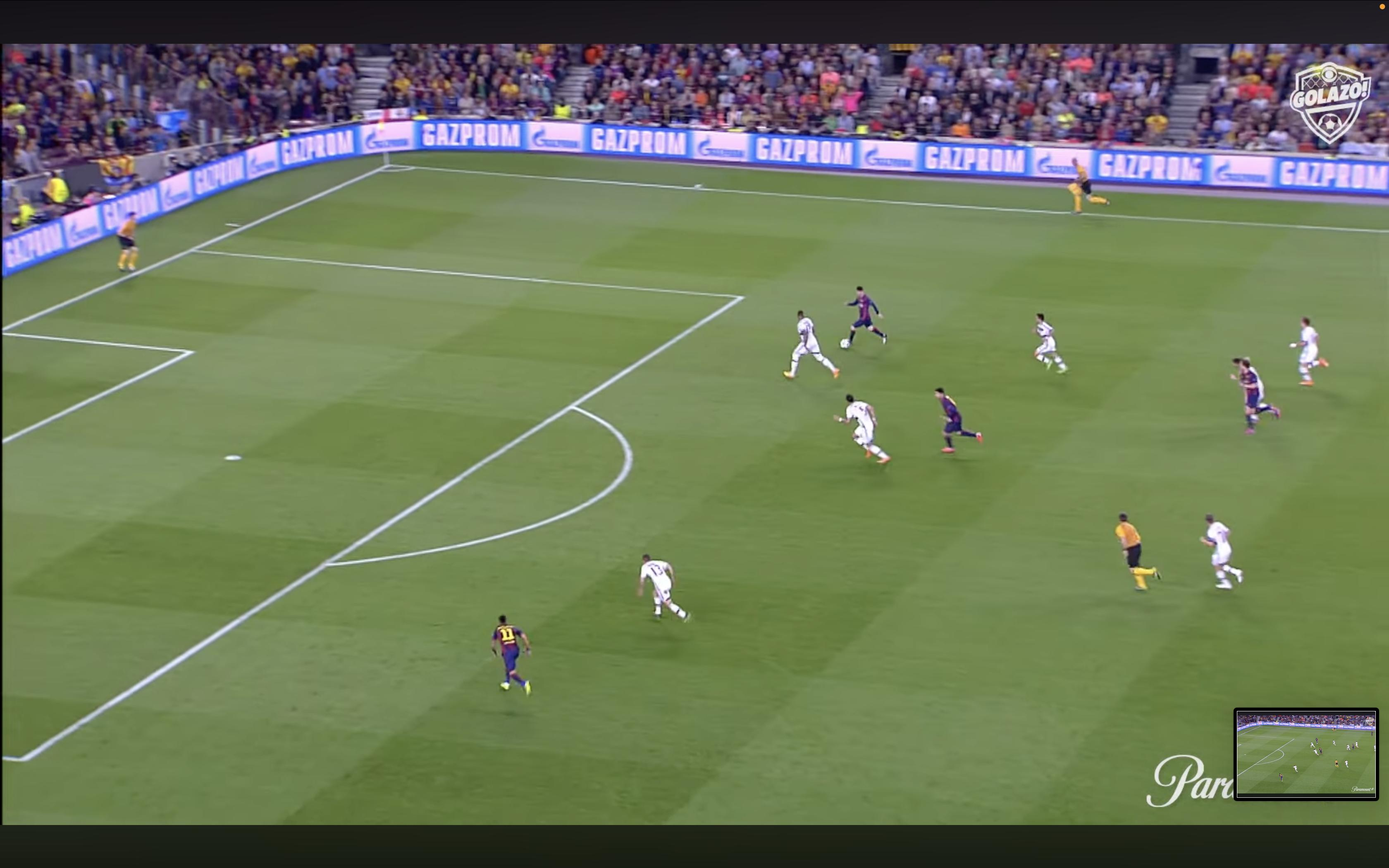ball: (839, 339, 851, 350)
player: (834, 394, 891, 463), (783, 311, 840, 379), (1231, 358, 1280, 434), (637, 554, 690, 621), (934, 388, 983, 453), (1202, 514, 1243, 589), (492, 615, 530, 695), (840, 286, 887, 349), (1289, 317, 1329, 386), (1034, 313, 1067, 373)
referee: (1116, 513, 1160, 591), (1067, 159, 1110, 214), (117, 212, 138, 272)
